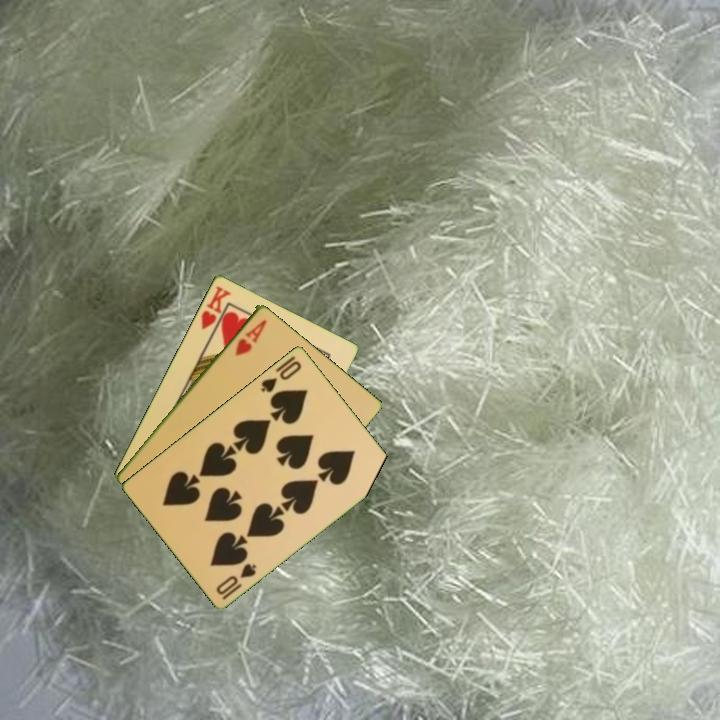10s: (213, 559, 260, 602), (257, 357, 304, 395)
Ah: (231, 315, 270, 359)
Kh: (197, 282, 233, 339)
